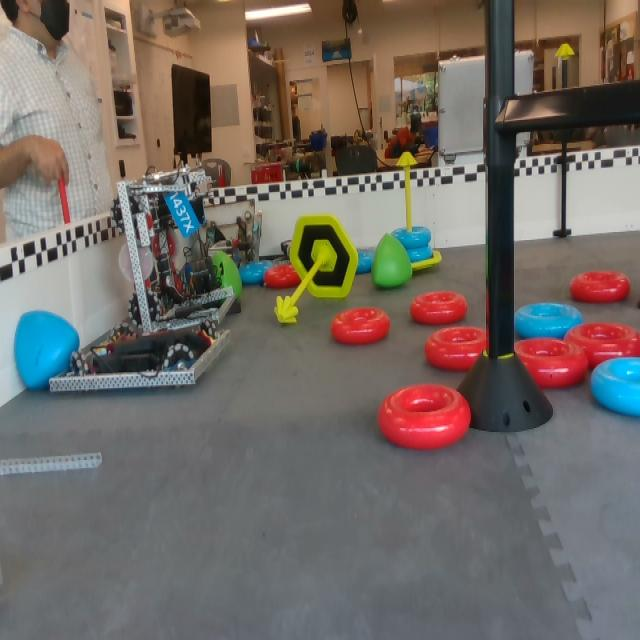Blue-Ring: (511, 303, 584, 341), (592, 357, 639, 416), (238, 259, 276, 286), (393, 226, 431, 249), (406, 245, 434, 262), (355, 251, 376, 273)
Mobile-Goal: (274, 216, 359, 324), (395, 151, 444, 270)
Red-Ring: (376, 385, 472, 452), (514, 337, 588, 387), (566, 319, 639, 364), (424, 327, 487, 373), (568, 267, 633, 306), (331, 308, 391, 348), (411, 291, 468, 328), (263, 266, 301, 288)
Yellow-Stake-Head: (274, 296, 299, 323), (396, 151, 418, 166), (554, 44, 574, 56)
